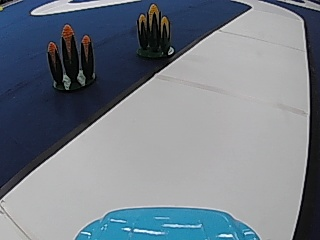corn: (47, 25, 98, 90), (133, 1, 175, 58)
